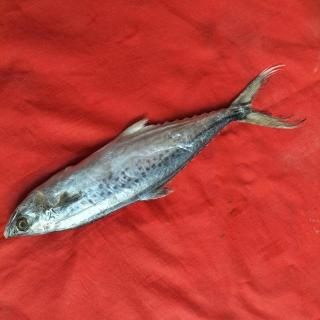Ikan: (1, 58, 309, 242)
